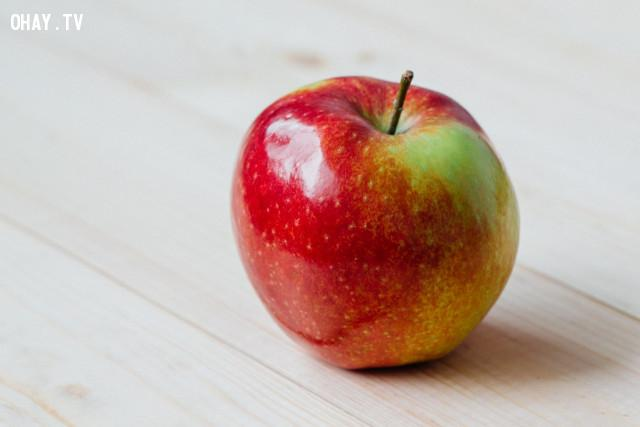apples: (226, 59, 525, 377)
